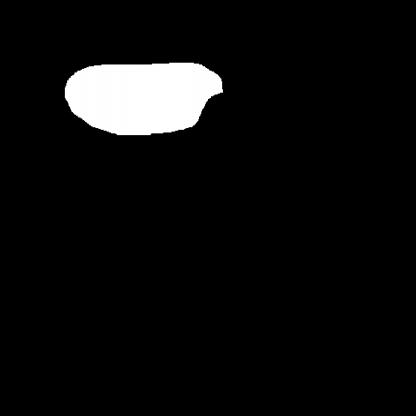benign: (52, 50, 238, 149)
